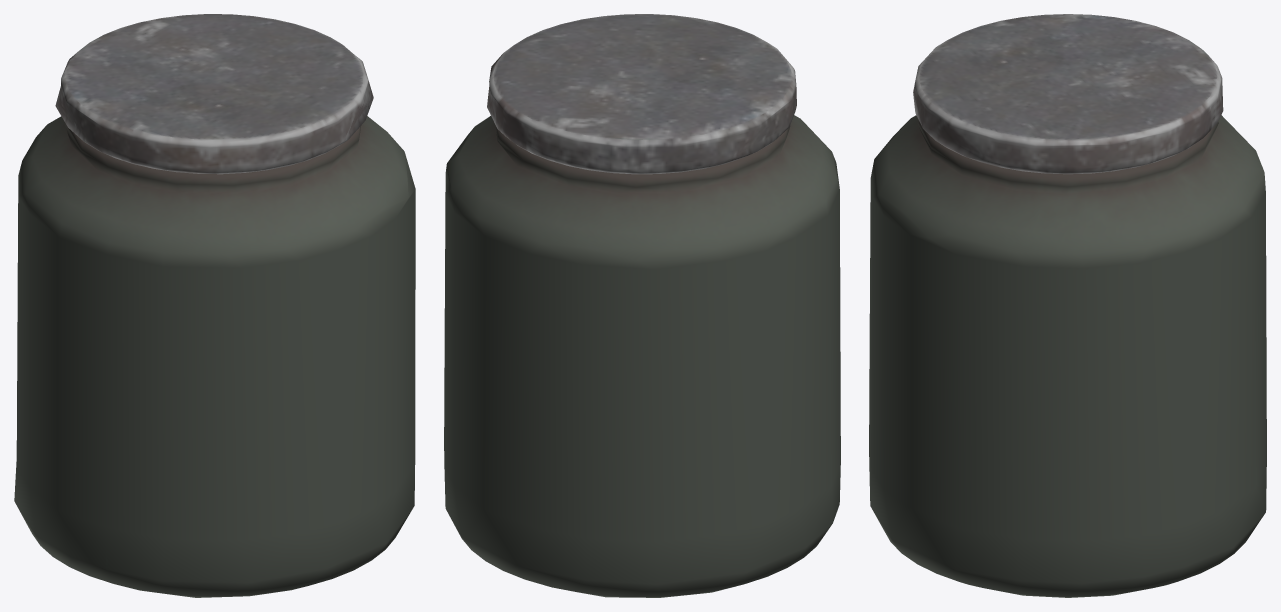
The model's file is SM_Jar_02.fbx.
3 renders of one model, left to right at view 1: azimuth 30°, elevation 25°; view 2: azimuth 150°, elevation 25°; view 3: azimuth 270°, elevation 25°, orthographic.
Visible parts, largest first — view 1: SM_Jar_02_LOD0; view 2: SM_Jar_02_LOD0; view 3: SM_Jar_02_LOD0.
Part boxes in pixels (bbox=[...]): SM_Jar_02_LOD0: bbox=[14, 14, 415, 597]; SM_Jar_02_LOD0: bbox=[444, 14, 840, 597]; SM_Jar_02_LOD0: bbox=[869, 14, 1266, 597].
Bounding box in the file's own units: 8.87 × 8.86 × 11.14.
1 material, 1 textured.
